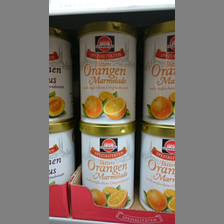jam: (78, 22, 136, 126), (77, 121, 137, 208), (142, 20, 174, 125), (138, 121, 174, 212)
